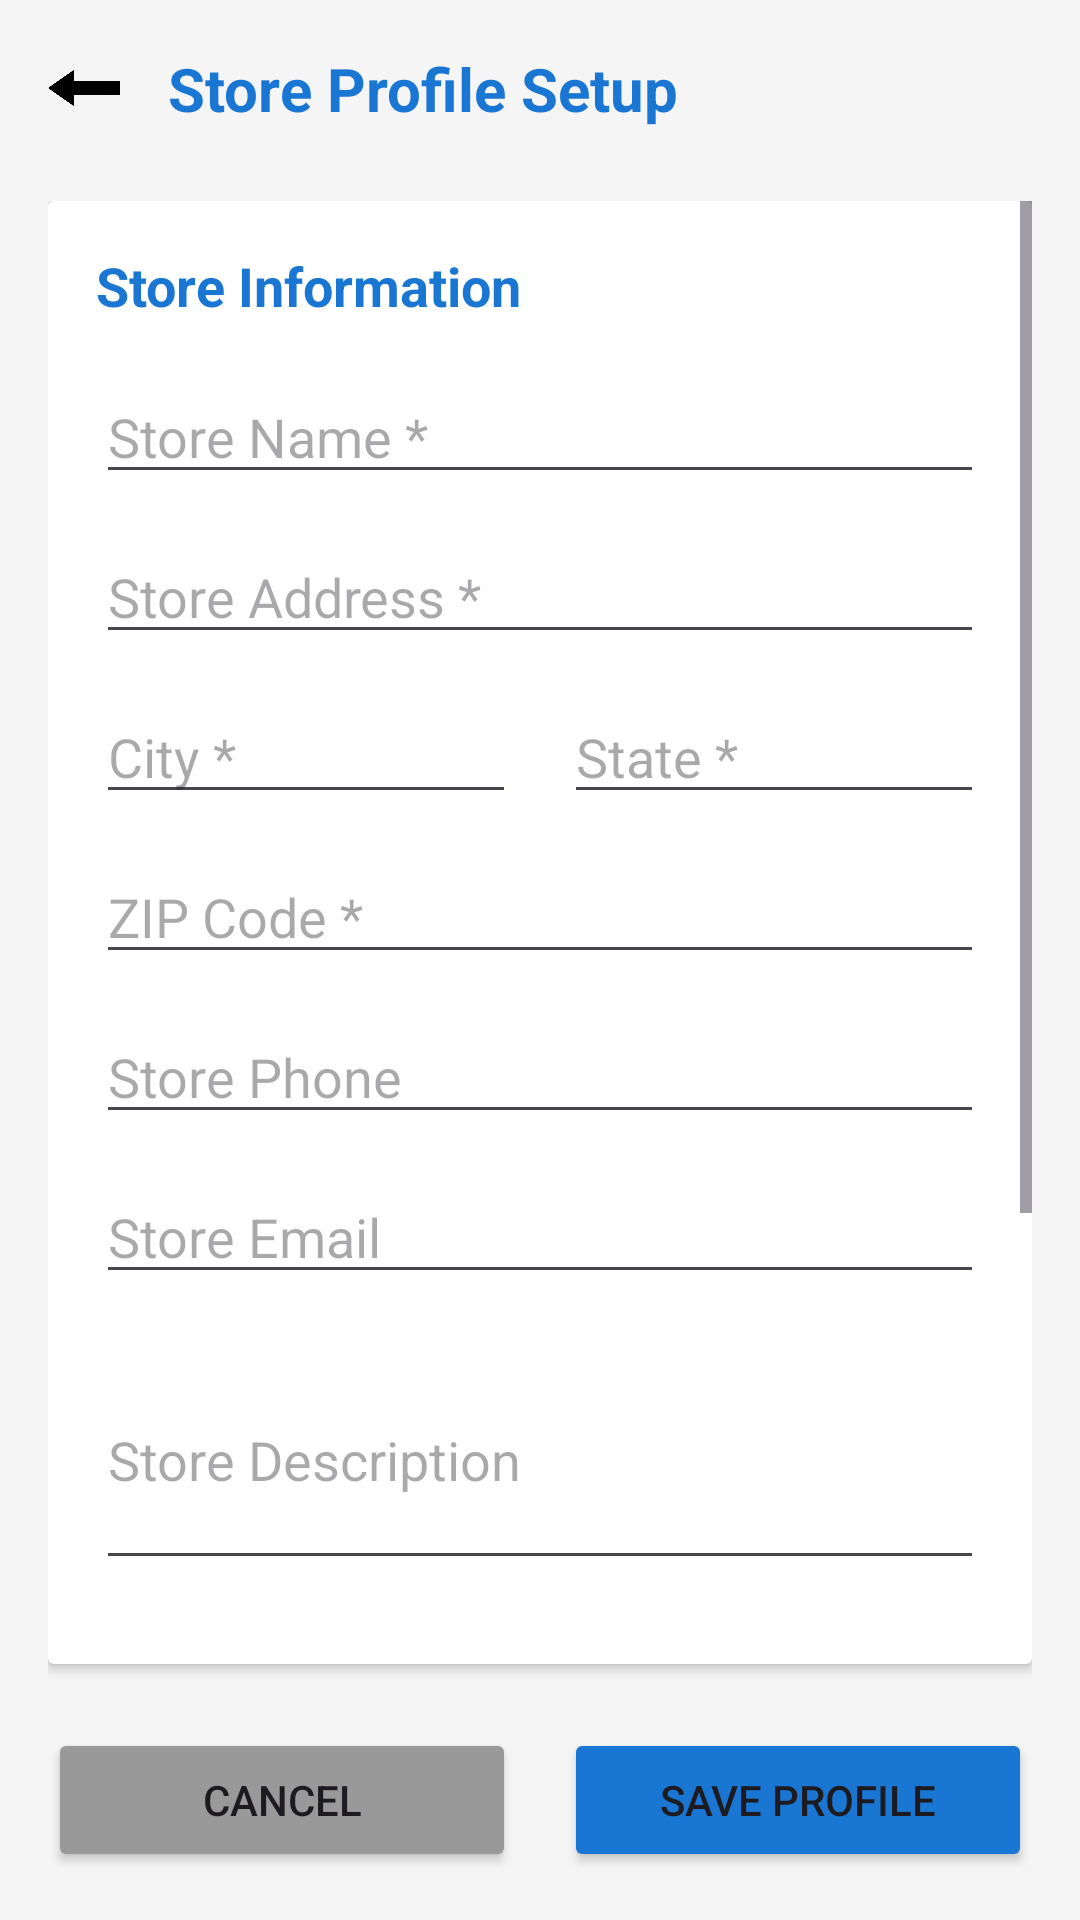

Point at icon controls on the screen. Image size 1080 × 1920, points as [x,y].
back arrow: [84,88]
